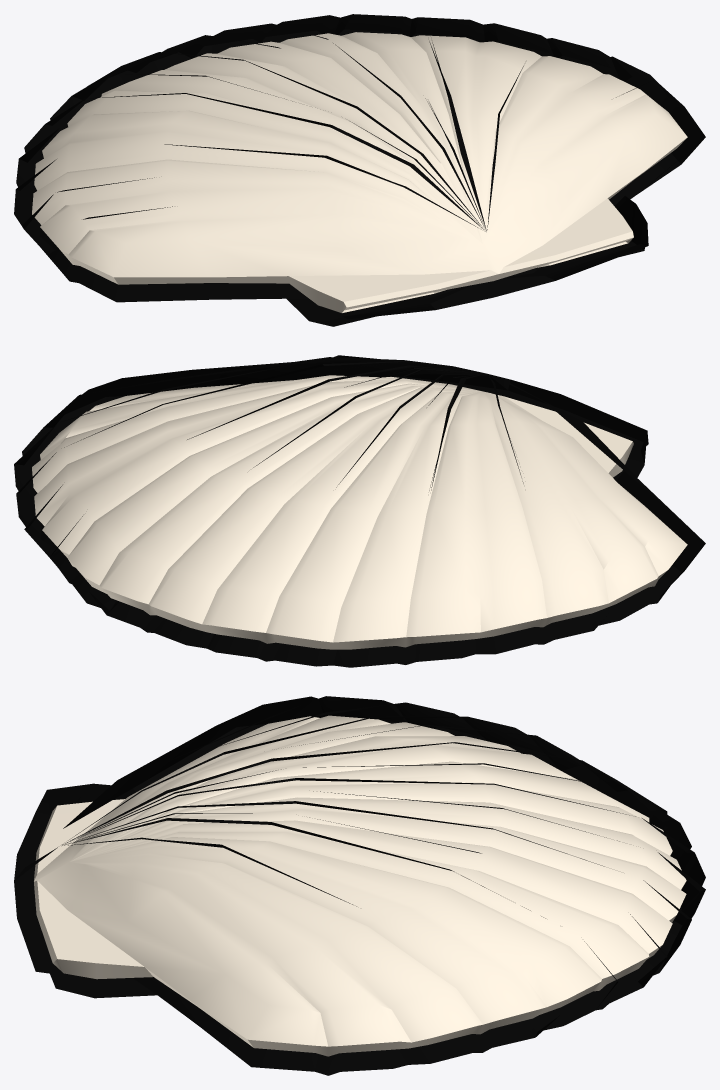
Rendered from shell_3.glb.
3 views of the same model, one above another, from view 1: azimuth 30°, elevation 25°; view 2: azimuth 150°, elevation 25°; view 3: azimuth 270°, elevation 25° (orthographic). The views are drawn at different scales.
Visible parts, largest first — view 1: Sphere.004; view 2: Sphere.004; view 3: Sphere.004.
Part boxes in pixels (<box>): Sphere.004: <box>14,14,705,326</box>; Sphere.004: <box>14,355,705,667</box>; Sphere.004: <box>14,696,705,1075</box>.
Bounding box in the file's own units: 0.5441 × 0.101 × 0.4764.
